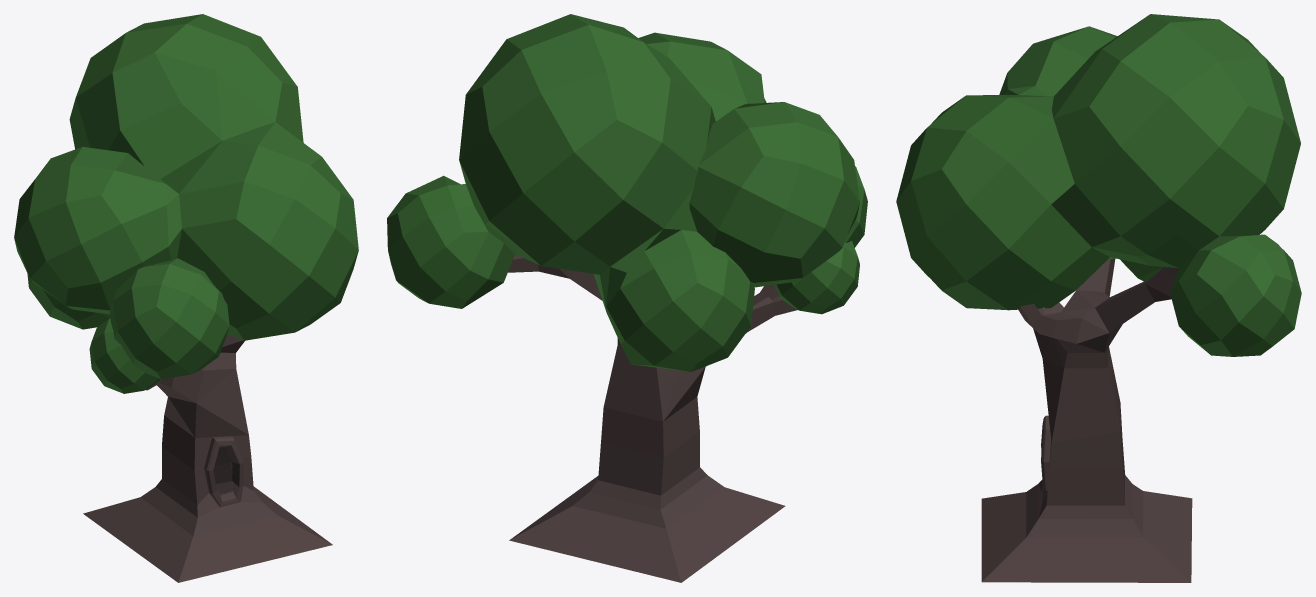
Rendered from 3DObj_TreeHole_V2.fbx.
3 renders of one model, left to right at view 1: azimuth 30°, elevation 25°; view 2: azimuth 150°, elevation 25°; view 3: azimuth 270°, elevation 25°, orthographic. The views are drawn at different scales.
Parts seen in each view (by area): view 1: 3DObj_TreeHole_v1; view 2: 3DObj_TreeHole_v1; view 3: 3DObj_TreeHole_v1.
Part boxes in pixels (x1,y1,x2,y2): 3DObj_TreeHole_v1: (14, 14, 358, 582); 3DObj_TreeHole_v1: (387, 14, 867, 582); 3DObj_TreeHole_v1: (896, 14, 1301, 582).
Size of the model in its own units: 354 by 470 by 328.
1 material, 1 textured.
